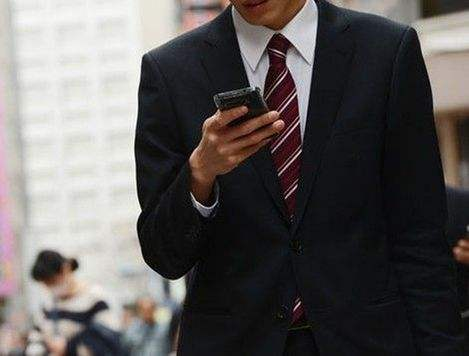reading: (190, 85, 285, 183)
